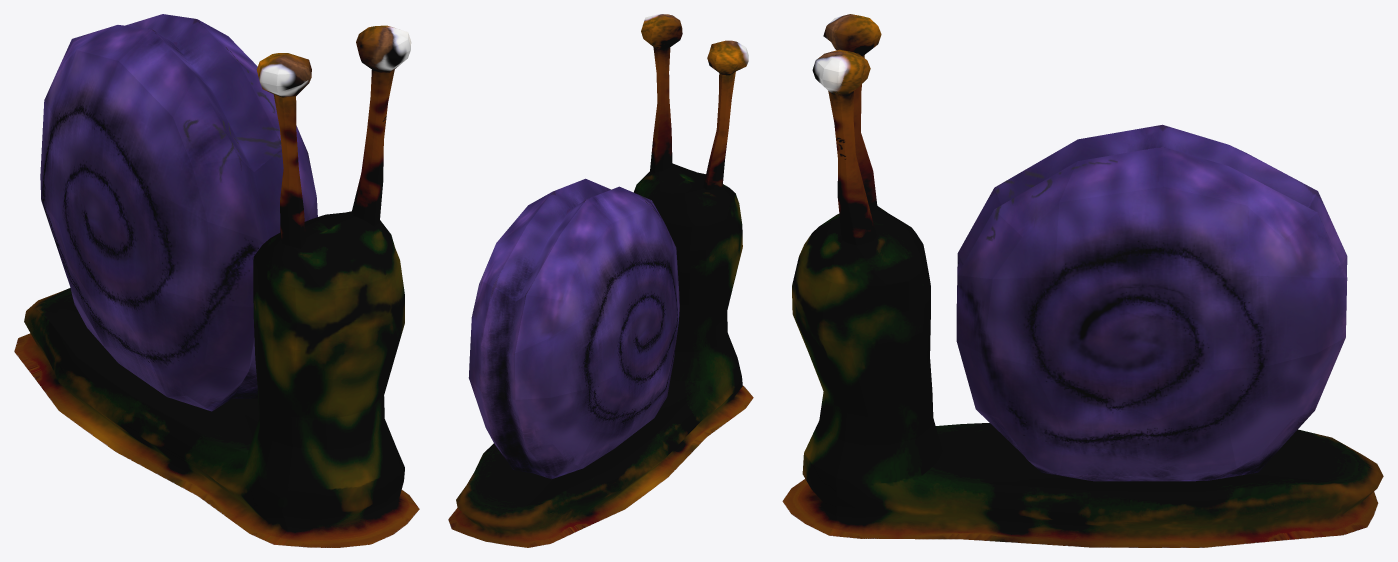
File: Snail_0.glb
The picture shows the model from 3 angles, left to right: view 1: azimuth 30°, elevation 25°; view 2: azimuth 150°, elevation 25°; view 3: azimuth 270°, elevation 25°; orthographic projection. The views are drawn at different scales.
Visible parts, largest first — view 1: Snail_0 Model; view 2: Snail_0 Model; view 3: Snail_0 Model.
Part boxes in pixels (box(x1,y1,x2,y2)): Snail_0 Model: box(14, 14, 419, 547); Snail_0 Model: box(448, 14, 753, 547); Snail_0 Model: box(782, 14, 1383, 547).
Size of the model in its own units: 23.36 by 57.22 by 66.14.
Materials: 1 (1 with a texture image).
